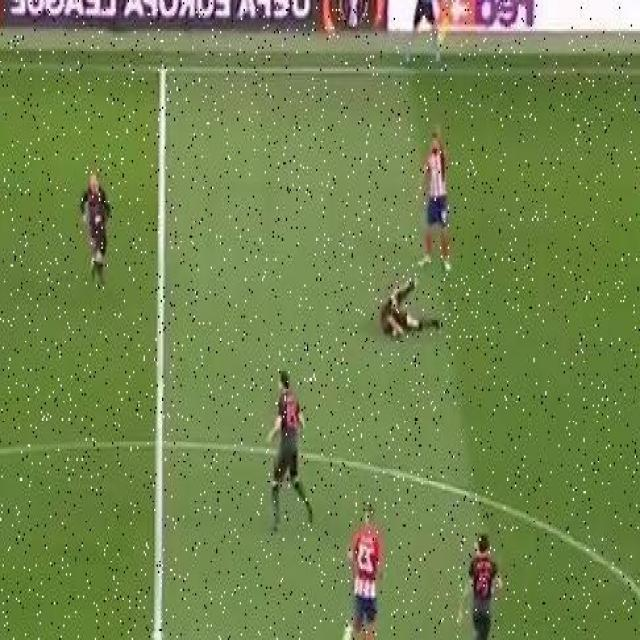fall: (381, 276, 441, 346)
